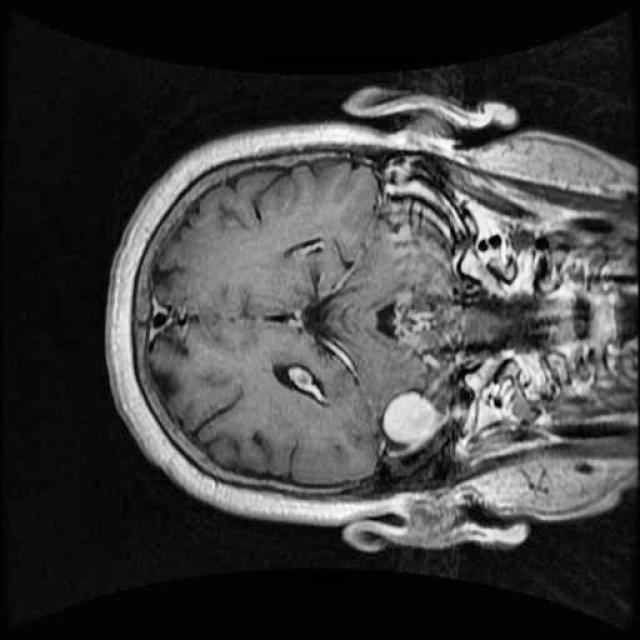Tumor: (359, 374, 461, 475)
